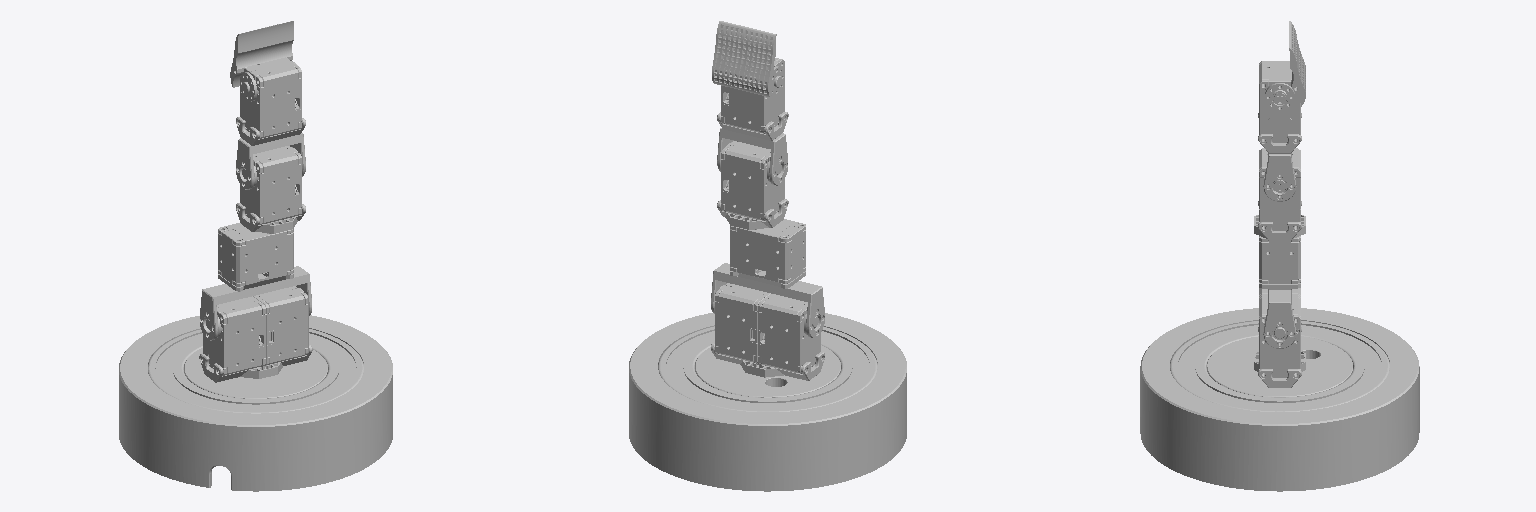
The robot description file, URDF, robot "clsrobo_10722":
<?xml version="1.0" ?>
<robot name="clsrobo_10722" xmlns:xacro="http://www.ros.org/wiki/xacro">

    <material name="silver">
        <color rgba="0.8 0.8 0.8 1.000"/>
    </material>

    <!-->Link Tags Go Here<-->
    
<link name="0_link">
        <inertial>
            <origin rpy="0 0 0" xyz="0.00003821186809 -0.00030983086283 0.01875604321375"/>
            <mass value="2.07110000000000"/>
            <inertia ixx="3.64188928305714" ixy="0.00000514769757" ixz="0.00000085409818" iyy="3.64187376134656" iyz="0.00000286492593" izz="0.01059796903767"/>
        </inertial>
        <visual>
            <origin rpy="0 0 0" xyz="0 0 0"/>
            <geometry>
                <mesh filename="package://clsrobo_10722_description/meshes/0_link.stl" scale="0.001 0.001 0.001"/>
            </geometry>
            <material name="silver"/>
        </visual>
        <collision>
            <origin rpy="0 0 0" xyz="0 0 0"/>
            <geometry>
                <mesh filename="package://clsrobo_10722_description/meshes/0_link.stl" scale="0.001 0.001 0.001"/>
            </geometry>
        </collision>
    </link>

<link name="1_link">
        <inertial>
            <origin rpy="0 0 0" xyz="0.00012843477802 -0.00014275664176 0.02077775078681"/>
            <mass value="0.22750000000000"/>
            <inertia ixx="0.00019717203900" ixy="-0.00000059205455" ixz="0.00000047245861" iyy="0.00024035701003" iyz="-0.00000052463206" izz="0.00022140776924"/>
        </inertial>
        <visual>
            <origin rpy="0 0 0" xyz="0 0 0"/>
            <geometry>
                <mesh filename="package://clsrobo_10722_description/meshes/1_link.stl" scale="0.001 0.001 0.001"/>
            </geometry>
            <material name="silver"/>
        </visual>
        <collision>
            <origin rpy="0 0 0" xyz="0 0 0"/>
            <geometry>
                <mesh filename="package://clsrobo_10722_description/meshes/1_link.stl" scale="0.001 0.001 0.001"/>
            </geometry>
        </collision>
    </link>

<link name="2_link">
        <inertial>
            <origin rpy="0 0 0" xyz="0.00000021195334 -0.00000074183667 0.04384420348224"/>
            <mass value="0.06823200000000"/>
            <inertia ixx="0.00001806916408" ixy="0.00000000789709" ixz="-0.00000033206490" iyy="0.00003101316379" iyz="-0.00000001026684" izz="0.00002108400034"/>
        </inertial>
        <visual>
            <origin rpy="0 0 0" xyz="0 0 0"/>
            <geometry>
                <mesh filename="package://clsrobo_10722_description/meshes/2_link.stl" scale="0.001 0.001 0.001"/>
            </geometry>
            <material name="silver"/>
        </visual>
        <collision>
            <origin rpy="0 0 0" xyz="0 0 0"/>
            <geometry>
                <mesh filename="package://clsrobo_10722_description/meshes/2_link.stl" scale="0.001 0.001 0.001"/>
            </geometry>
        </collision>
    </link>

<link name="3_link">
        <inertial>
            <origin rpy="0 0 0" xyz="0.00000000000000 0.00000000000000 0.02842285202155"/>
            <mass value="0.06198200000000"/>
            <inertia ixx="0.00001781079875" ixy="0.00000000881800" ixz="-0.00000006923300" iyy="0.00002019079875" iyz="-0.00000000773100" izz="0.00001068200000"/>
        </inertial>
        <visual>
            <origin rpy="0 0 0" xyz="0 0 0"/>
            <geometry>
                <mesh filename="package://clsrobo_10722_description/meshes/3_link.stl" scale="0.001 0.001 0.001"/>
            </geometry>
            <material name="silver"/>
        </visual>
        <collision>
            <origin rpy="0 0 0" xyz="0 0 0"/>
            <geometry>
                <mesh filename="package://clsrobo_10722_description/meshes/3_link.stl" scale="0.001 0.001 0.001"/>
            </geometry>
        </collision>
    </link>

<link name="4_link">
        <inertial>
            <origin rpy="0 0 0" xyz="0.00000000000000 -0.00000036551898 0.05006304085747"/>
            <mass value="0.07141900000000"/>
            <inertia ixx="0.00002510727914" ixy="0.00000000881800" ixz="-0.00000006923300" iyy="0.00002904527902" iyz="-0.00000000853299" izz="0.00001210800012"/>
        </inertial>
        <visual>
            <origin rpy="0 0 0" xyz="0 0 0"/>
            <geometry>
                <mesh filename="package://clsrobo_10722_description/meshes/4_link.stl" scale="0.001 0.001 0.001"/>
            </geometry>
            <material name="silver"/>
        </visual>
        <collision>
            <origin rpy="0 0 0" xyz="0 0 0"/>
            <geometry>
                <mesh filename="package://clsrobo_10722_description/meshes/4_link.stl" scale="0.001 0.001 0.001"/>
            </geometry>
        </collision>
    </link>

<link name="5_link">
        <inertial>
            <origin rpy="0 0 0" xyz="0.00000000000000 0.00000000000000 0.01800000000000"/>
            <mass value="0.00716000000000"/>
            <inertia ixx="0.00000123800000" ixy="-0.00000000020200" ixz="-0.00000000016500" iyy="0.00000283900000" iyz="0.00000012121400" izz="0.00000187100000"/>
        </inertial>
        <visual>
            <origin rpy="0 0 0" xyz="0 0 0"/>
            <geometry>
                <mesh filename="package://clsrobo_10722_description/meshes/5_link.stl" scale="0.001 0.001 0.001"/>
            </geometry>
            <material name="silver"/>
        </visual>
        <collision>
            <origin rpy="0 0 0" xyz="0 0 0"/>
            <geometry>
                <mesh filename="package://clsrobo_10722_description/meshes/5_link.stl" scale="0.001 0.001 0.001"/>
            </geometry>
        </collision>
    </link>


    <!-->Joint Tags Go Here<-->
    
<joint name="joint_0" type="revolute">
        <origin rpy="0 0 0" xyz="0.00000000000000 0.00000000000000 0.04100000000000"/>
        <limit effort="1000.0" lower="-3.14" upper="3.14" velocity="1.0"/>
        <parent link="0_link"/>
        <child link="1_link"/>
        <axis xyz="0.00000000000000 0.00000000000000 1.00000000000000"/>
</joint>


<joint name="joint_1" type="revolute">
        <origin rpy="0 0 0" xyz="0.00000000000000 0.00000000000000 0.05098200000000"/>
        <limit effort="1000.0" lower="-1.57" upper="1.57" velocity="1.0"/>
        <parent link="1_link"/>
        <child link="2_link"/>
        <axis xyz="1.00000000000000 0.00000000000000 0.00000000000000"/>
</joint>


<joint name="joint_2" type="revolute">
        <origin rpy="0 0 0" xyz="0.01200000000000 0.00000000000000 0.06650000000000"/>
        <limit effort="1000.0" lower="-3.14" upper="3.14" velocity="1.0"/>
        <parent link="2_link"/>
        <child link="3_link"/>
        <axis xyz="0.00000000000000 0.00000000000000 1.00000000000000"/>
</joint>


<joint name="joint_3" type="revolute">
        <origin rpy="0 0 0" xyz="-0.00000000000000 0.00000000000000 0.04175000000000"/>
        <limit effort="1000.0" lower="-1.57" upper="1.57" velocity="1.0"/>
        <parent link="3_link"/>
        <child link="4_link"/>
        <axis xyz="-1.00000000000000 0.00000000000000 0.00000000000000"/>
</joint>


<joint name="joint_4" type="revolute">
        <origin rpy="0 0 0" xyz="-0.00000000000000 0.00000000000000 0.06575000000000"/>
        <limit effort="1000.0" lower="-1.57" upper="0" velocity="1.0"/>
        <parent link="4_link"/>
        <child link="5_link"/>
        <axis xyz="-1.00000000000000 0.00000000000000 0.00000000000000"/>
</joint>



    <!--Transmissions go here -->
    
<transmission name="joint_0_tran">
  <type>transmission_interface/SimpleTransmission</type>
  <joint name="joint_0">
    <hardwareInterface>hardware_interface/EffortJointInterface</hardwareInterface>
  </joint>
  <actuator name="joint_0_actr">
    <hardwareInterface>hardware_interface/EffortJointInterface</hardwareInterface>
    <mechanicalReduction>1</mechanicalReduction>
  </actuator>
</transmission>


<transmission name="joint_1_tran">
  <type>transmission_interface/SimpleTransmission</type>
  <joint name="joint_1">
    <hardwareInterface>hardware_interface/EffortJointInterface</hardwareInterface>
  </joint>
  <actuator name="joint_1_actr">
    <hardwareInterface>hardware_interface/EffortJointInterface</hardwareInterface>
    <mechanicalReduction>1</mechanicalReduction>
  </actuator>
</transmission>


<transmission name="joint_2_tran">
  <type>transmission_interface/SimpleTransmission</type>
  <joint name="joint_2">
    <hardwareInterface>hardware_interface/EffortJointInterface</hardwareInterface>
  </joint>
  <actuator name="joint_2_actr">
    <hardwareInterface>hardware_interface/EffortJointInterface</hardwareInterface>
    <mechanicalReduction>1</mechanicalReduction>
  </actuator>
</transmission>


<transmission name="joint_3_tran">
  <type>transmission_interface/SimpleTransmission</type>
  <joint name="joint_3">
    <hardwareInterface>hardware_interface/EffortJointInterface</hardwareInterface>
  </joint>
  <actuator name="joint_3_actr">
    <hardwareInterface>hardware_interface/EffortJointInterface</hardwareInterface>
    <mechanicalReduction>1</mechanicalReduction>
  </actuator>
</transmission>


<transmission name="joint_4_tran">
  <type>transmission_interface/SimpleTransmission</type>
  <joint name="joint_4">
    <hardwareInterface>hardware_interface/EffortJointInterface</hardwareInterface>
  </joint>
  <actuator name="joint_4_actr">
    <hardwareInterface>hardware_interface/EffortJointInterface</hardwareInterface>
    <mechanicalReduction>1</mechanicalReduction>
  </actuator>
</transmission>




<gazebo>
    <plugin filename="libgazebo_ros_control.so" name="control"/>
</gazebo>

<gazebo reference="0_link">
    <material>Gazebo/Silver</material>
    <mu1>0.2</mu1>
    <mu2>0.2</mu2>
    <selfCollide>true</selfCollide>
    <gravity>true</gravity>
</gazebo>

    
<gazebo reference="1_link">
        <material>Gazebo/Green</material>
        <mu1>0.2</mu1>
        <mu2>0.2</mu2>
        <selfCollide>true</selfCollide>
</gazebo>


<gazebo reference="2_link">
        <material>Gazebo/Green</material>
        <mu1>0.2</mu1>
        <mu2>0.2</mu2>
        <selfCollide>true</selfCollide>
</gazebo>


<gazebo reference="3_link">
        <material>Gazebo/Green</material>
        <mu1>0.2</mu1>
        <mu2>0.2</mu2>
        <selfCollide>true</selfCollide>
</gazebo>


<gazebo reference="4_link">
        <material>Gazebo/Green</material>
        <mu1>0.2</mu1>
        <mu2>0.2</mu2>
        <selfCollide>true</selfCollide>
</gazebo>


<gazebo reference="5_link">
        <material>Gazebo/Green</material>
        <mu1>0.2</mu1>
        <mu2>0.2</mu2>
        <selfCollide>true</selfCollide>
</gazebo>



</robot>

--- Render facts (derived) ---
The picture shows the robot from 3 angles, left to right: view 1: azimuth 30°, elevation 25°; view 2: azimuth 150°, elevation 25°; view 3: azimuth 270°, elevation 25°; orthographic projection.
Model clsrobo_10722 with 6 links and 5 joints (5 revolute), rooted at 0_link, posed every joint at zero.
Links seen in each view (by area): view 1: 0_link, 1_link, 4_link, 2_link, 3_link; view 2: 0_link, 1_link, 4_link, 2_link, 3_link; view 3: 0_link, 1_link, 4_link, 2_link, 3_link.
Boxes of the visible links, <box> form: 0_link: <box>119,315,392,491</box>; 1_link: <box>184,286,327,398</box>; 4_link: <box>230,21,305,189</box>; 2_link: <box>200,223,311,340</box>; 3_link: <box>236,146,305,233</box>; 0_link: <box>629,313,906,491</box>; 1_link: <box>695,283,840,397</box>; 4_link: <box>712,21,788,185</box>; 2_link: <box>711,219,824,337</box>; 3_link: <box>717,141,788,229</box>; 0_link: <box>1140,308,1419,491</box>; 1_link: <box>1207,288,1352,396</box>; 4_link: <box>1258,21,1305,201</box>; 2_link: <box>1259,236,1300,348</box>; 3_link: <box>1254,148,1305,240</box>.
Size in the robot's own frame: 0.19 by 0.19 by 0.3048 metres.
5 mesh visuals loaded from 6 distinct referenced files (5 binary STL); not drawn: 1 (reference not matched to a file when rendering).